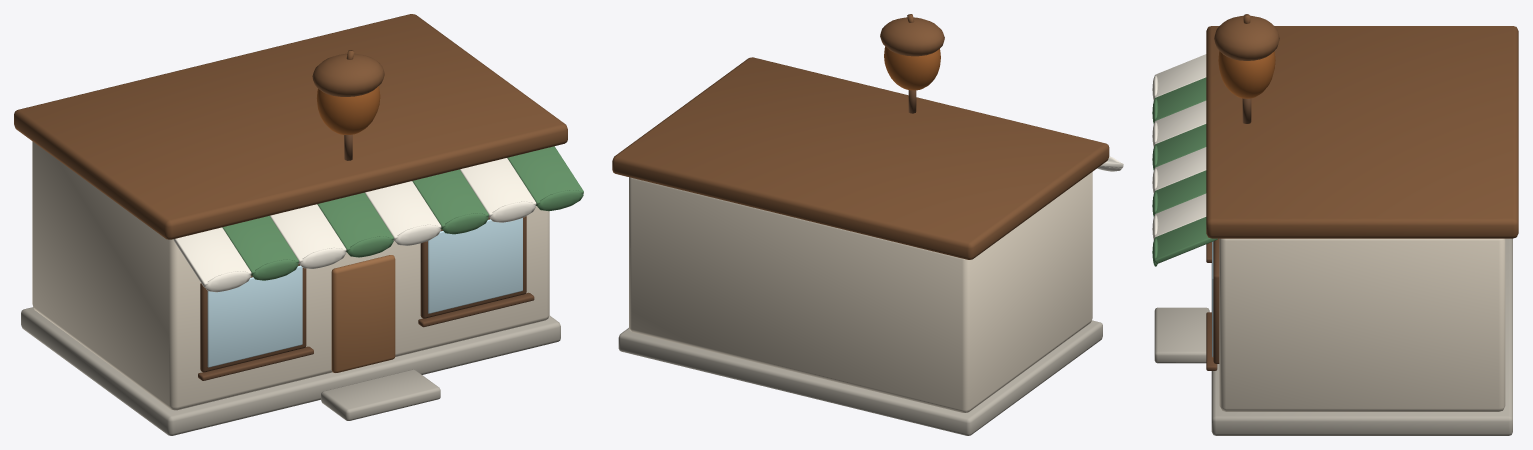
File: shop.glb
3 renders of one model, left to right at view 1: azimuth 30°, elevation 25°; view 2: azimuth 150°, elevation 25°; view 3: azimuth 270°, elevation 25°, orthographic. The views are drawn at different scales.
Parts seen in each view (by area): view 1: shop.001; view 2: shop.001; view 3: shop.001.
Boxes of the visible parts, x1,y1,x2,y2 form: shop.001: (14, 14, 583, 435); shop.001: (612, 14, 1123, 435); shop.001: (1152, 14, 1518, 435).
Size of the model in its own units: 4.24 by 3.29 by 3.33.
